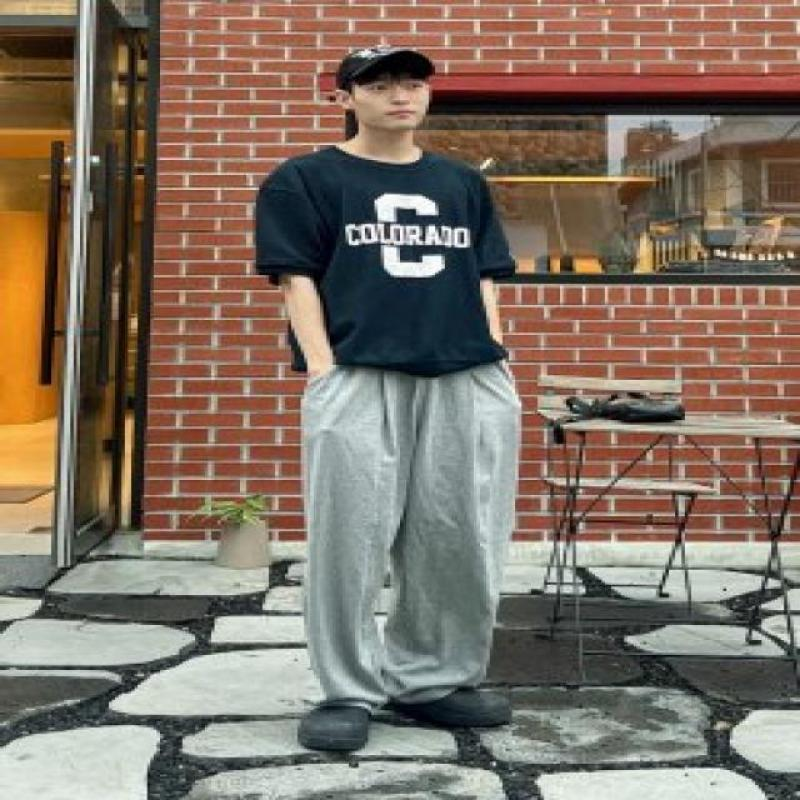short sleeve shirt: (250, 141, 518, 378)
trousers: (298, 360, 524, 713)
